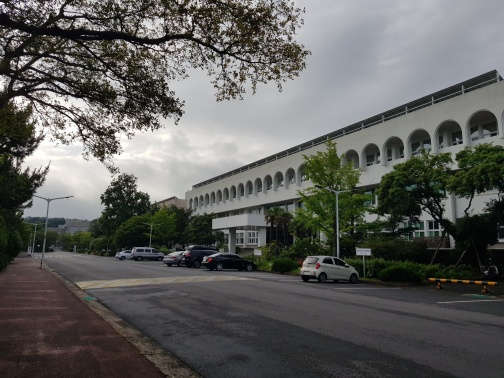Main Building of University: (185, 74, 494, 252), (358, 107, 465, 170), (194, 165, 297, 207), (206, 210, 278, 250)
